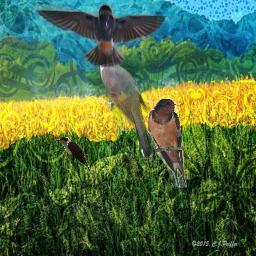Cuckoo: (84, 48, 155, 160), (55, 137, 90, 172)
Swallow: (31, 2, 168, 68), (147, 98, 187, 188)
